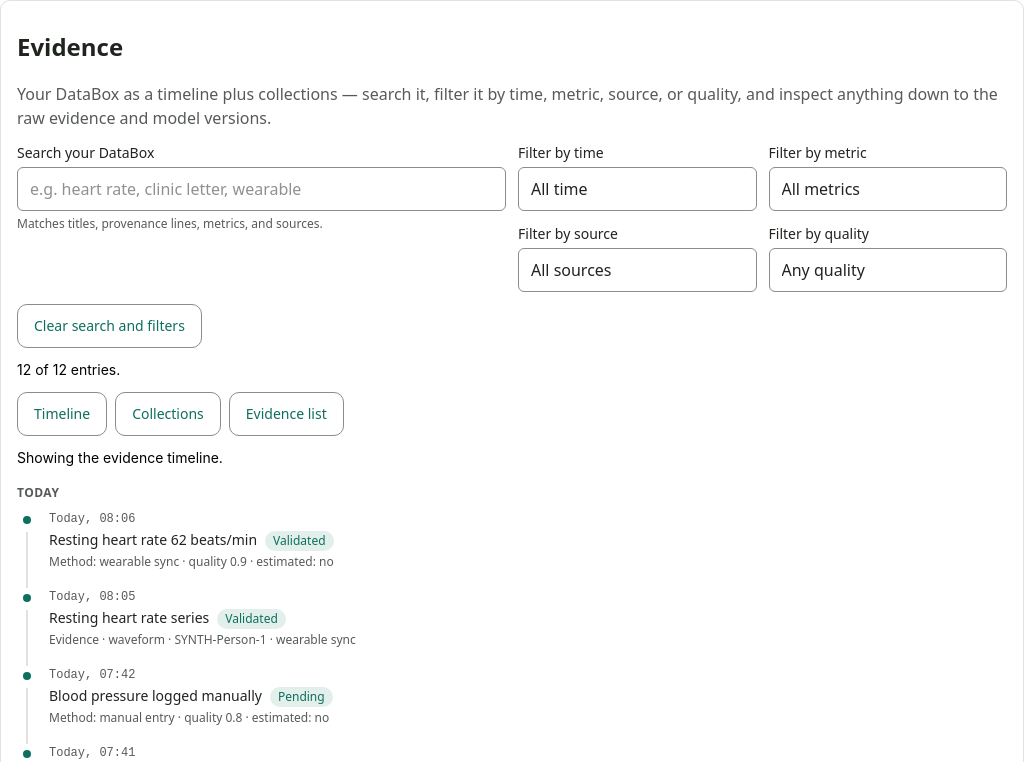
Test: DataboxWorkspace (the §DataBox UX model) › switches to the collections view and back to the timeline politely
Click the button "Collections" at (168, 414), box top-left (115, 392), bottom-right (221, 436)
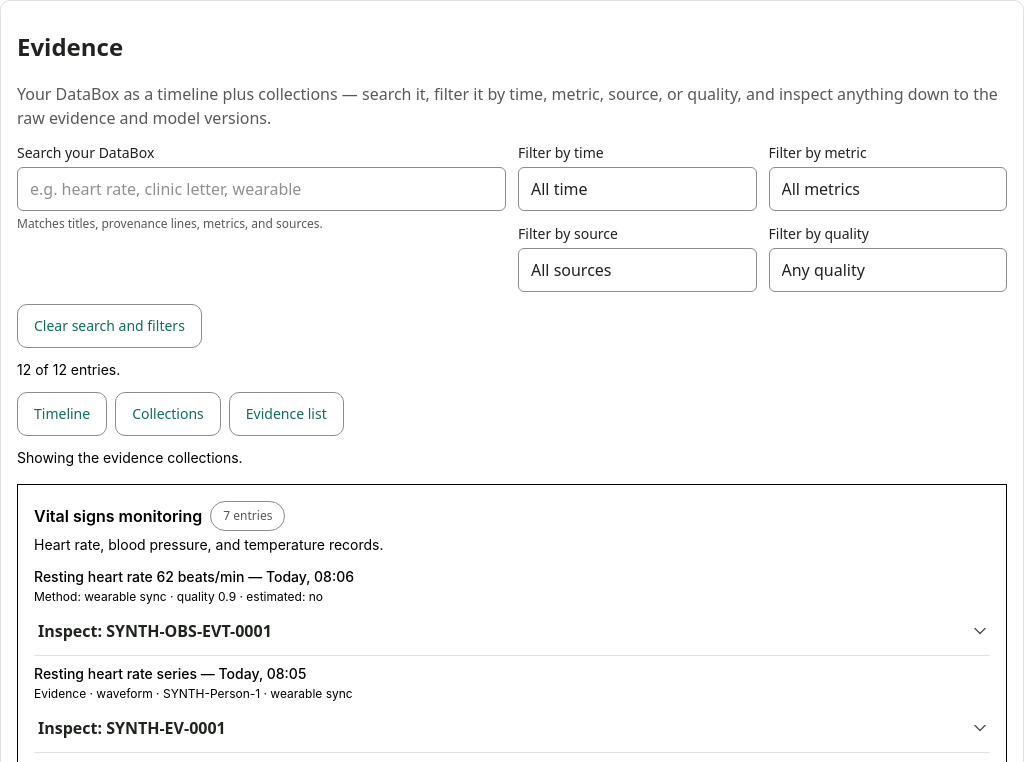
Expected: the text "Showing the evidence collections." is shown, top-left (17, 449), bottom-right (243, 466)
Expected: the text "Vital signs monitoring" is shown, top-left (34, 504), bottom-right (202, 528)
Click the button "Timeline" at (62, 414), box top-left (17, 392), bottom-right (107, 436)
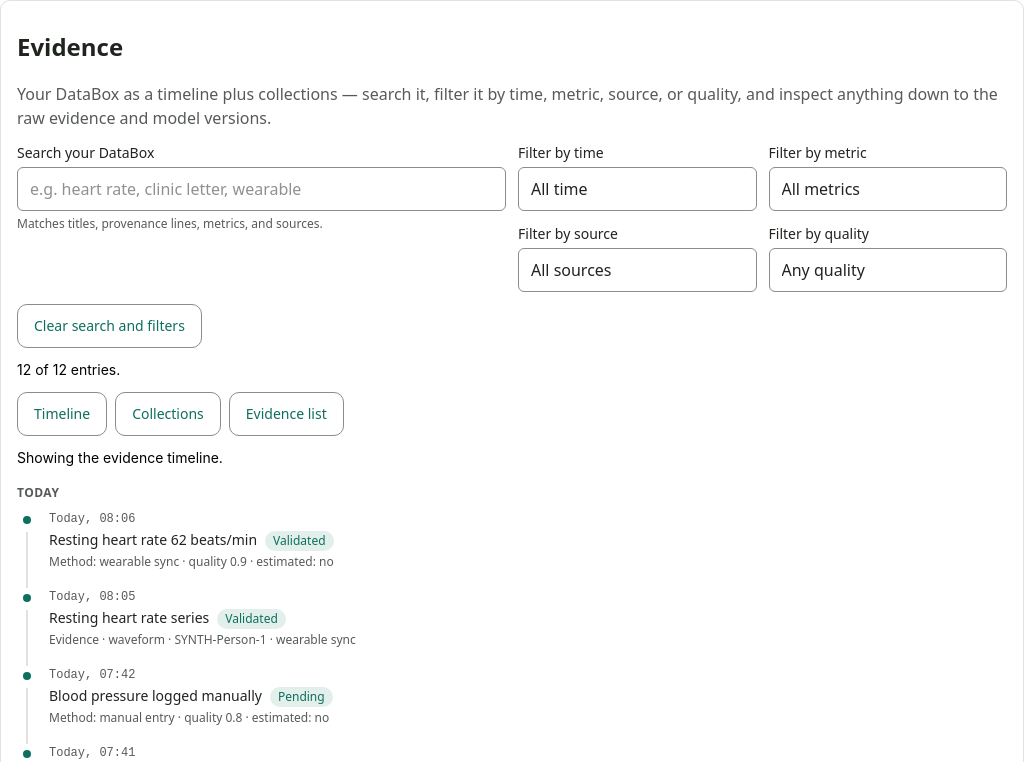
Expected: the text "Showing the evidence timeline." is shown, top-left (17, 449), bottom-right (223, 466)
